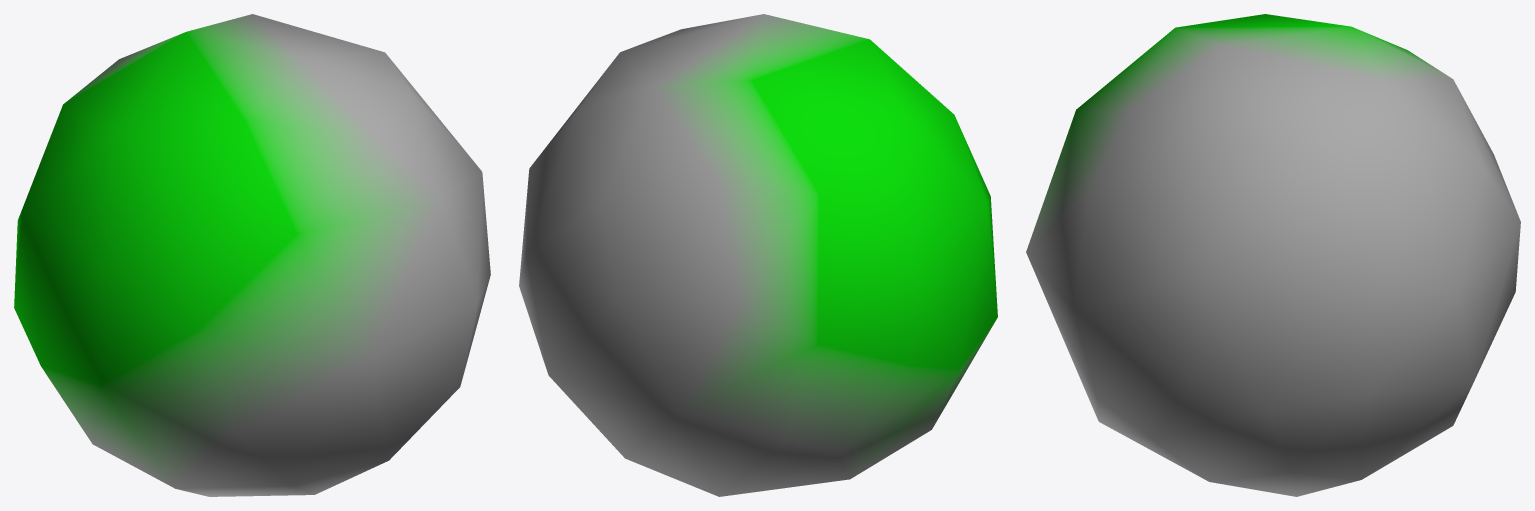
3 renders of one model, left to right at view 1: azimuth 30°, elevation 25°; view 2: azimuth 150°, elevation 25°; view 3: azimuth 270°, elevation 25°, orthographic.
Bounding box in the file's own units: 1.98 × 1.99 × 2.05.
